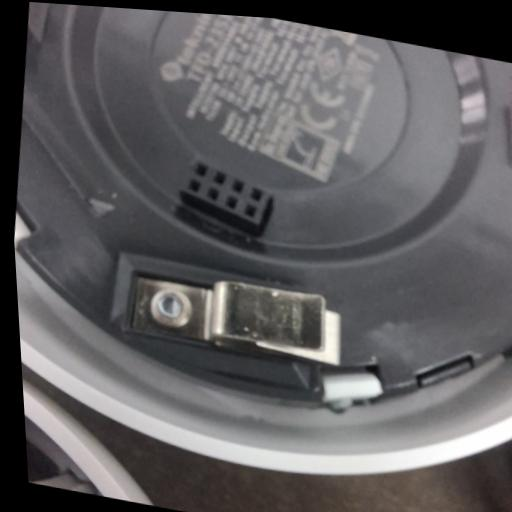yayli: (118, 257, 346, 374)
